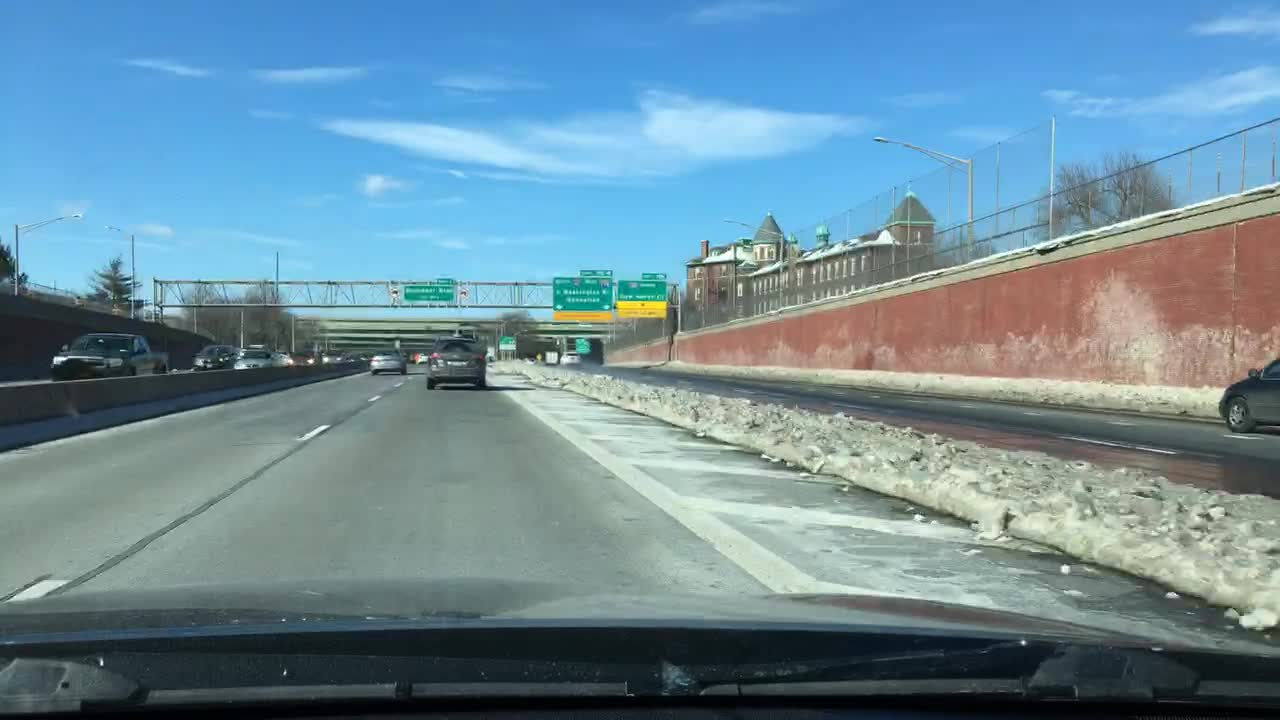car: (1219, 356, 1279, 434), (425, 335, 490, 389), (233, 348, 278, 371), (192, 346, 237, 369), (369, 349, 406, 373), (277, 353, 308, 366), (558, 349, 581, 365), (318, 349, 348, 361), (415, 353, 429, 363), (525, 356, 537, 363)
traffic sign: (552, 268, 616, 325), (618, 272, 668, 320), (404, 278, 456, 300), (573, 338, 591, 354), (500, 336, 516, 350)
truck: (47, 330, 168, 376), (546, 350, 556, 366)
